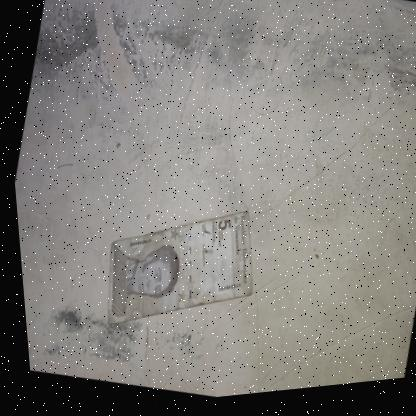five-front-vef: (84, 183, 269, 360)
